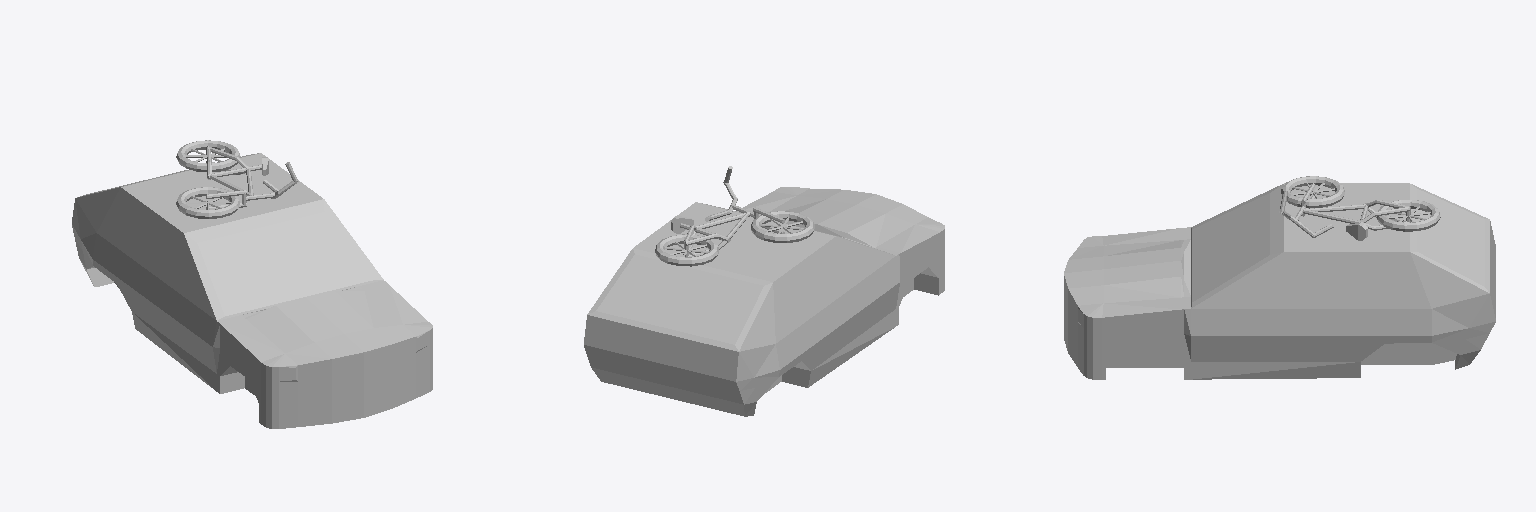
The model's file is car_body.obj.
3 views of the same model, side by side, from view 1: azimuth 30°, elevation 25°; view 2: azimuth 150°, elevation 25°; view 3: azimuth 270°, elevation 25° (orthographic).
Visible parts, largest first — view 1: car_body_Cylinder.021; view 2: car_body_Cylinder.021; view 3: car_body_Cylinder.021.
Boxes of the visible parts, <box> form: car_body_Cylinder.021: <box>72,140,432,428</box>; car_body_Cylinder.021: <box>584,166,944,416</box>; car_body_Cylinder.021: <box>1064,176,1495,379</box>.
Bounding box in the file's own units: 2.77 × 2.5 × 5.92.